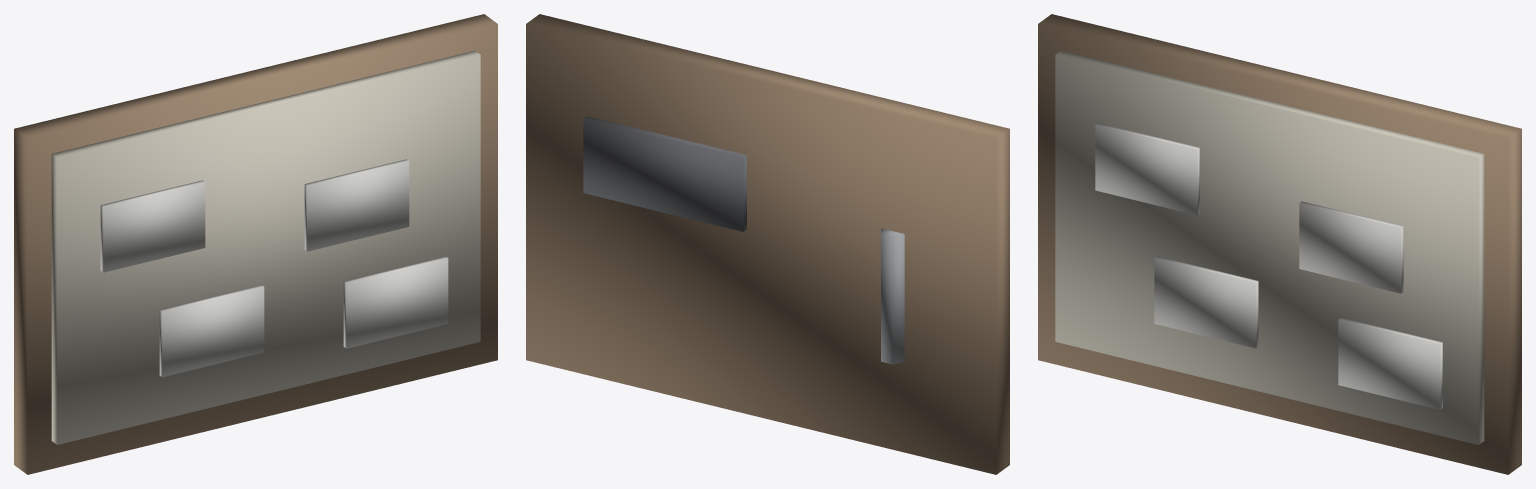
Rendered from whiteboard__service.glb.
3 views of the same model, side by side, from view 1: azimuth 30°, elevation 25°; view 2: azimuth 150°, elevation 25°; view 3: azimuth 330°, elevation 25° (orthographic).
Visible parts, largest first — view 1: world; view 2: world; view 3: world.
Part boxes in pixels (box(x1,y1,x2,y2)): world: box(14, 14, 497, 474); world: box(526, 14, 1009, 474); world: box(1038, 14, 1521, 474).
Size of the model in its own units: 1.2 by 0.82 by 0.127.
